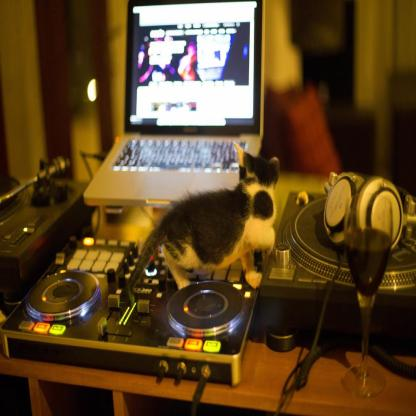board: (89, 11, 268, 210)
